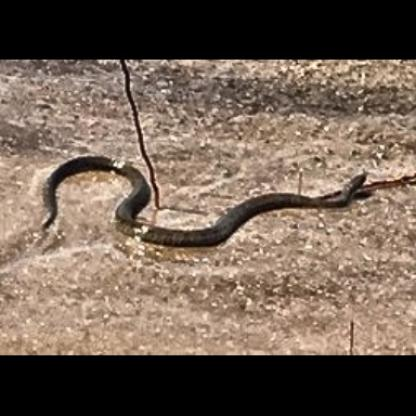Snake: (34, 150, 372, 249)
